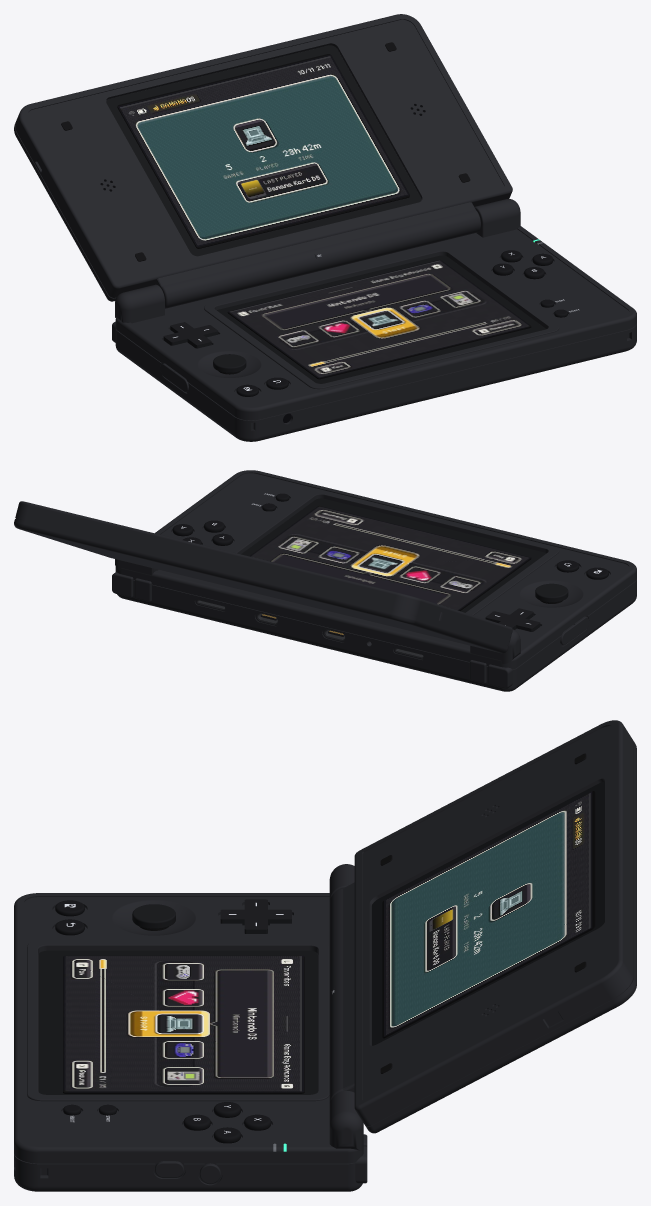
Rendered from rgds_plus.min.glb.
The picture shows the model from 3 angles, top to bottom: view 1: azimuth 30°, elevation 25°; view 2: azimuth 150°, elevation 25°; view 3: azimuth 270°, elevation 25°; orthographic projection. The views are drawn at different scales.
Parts seen in each view (by area): view 1: Lid, Lower, Screen_Top, Screen_Bottom, Btn_DPad; view 2: Lower, Lid, Screen_Bottom, Btn_DPad, Btn_Stick, Btn_L1, Btn_R1, Btn_Volume, Btn_L2, Btn_R2; view 3: Lower, Lid, Screen_Bottom, Screen_Top, Btn_DPad, Btn_Stick.
Part boxes in pixels (<box>): Lid: <box>14,14,512,308</box>; Lower: <box>115,199,636,441</box>; Screen_Top: <box>118,54,409,246</box>; Screen_Bottom: <box>228,259,531,378</box>; Btn_DPad: <box>163,322,218,348</box>; Lower: <box>115,470,636,691</box>; Lid: <box>14,501,512,653</box>; Screen_Bottom: <box>249,505,531,610</box>; Btn_DPad: <box>485,608,540,631</box>; Btn_Stick: <box>535,583,568,603</box>; Btn_L1: <box>488,664,513,688</box>; Btn_R1: <box>112,572,133,597</box>; Btn_Volume: <box>560,616,588,645</box>; Btn_L2: <box>469,660,486,683</box>; Btn_R2: <box>135,578,152,601</box>; Lower: <box>14,864,363,1191</box>; Lid: <box>329,720,636,1133</box>; Screen_Bottom: <box>63,955,303,1092</box>; Screen_Top: <box>384,791,592,1036</box>; Btn_DPad: <box>220,899,291,933</box>; Btn_Stick: <box>132,904,175,930</box>.
Size of the model in its own units: 0.1678 by 0.068 by 0.171.
Materials: 20 (2 with a texture image).
